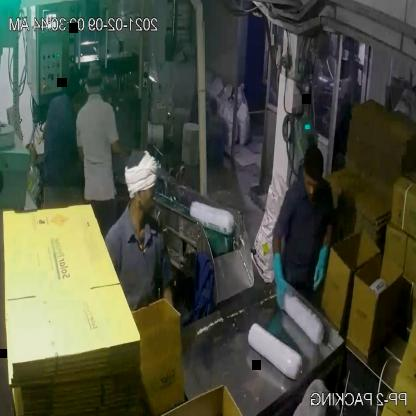glove: (270, 244, 299, 314), (306, 239, 338, 299)
